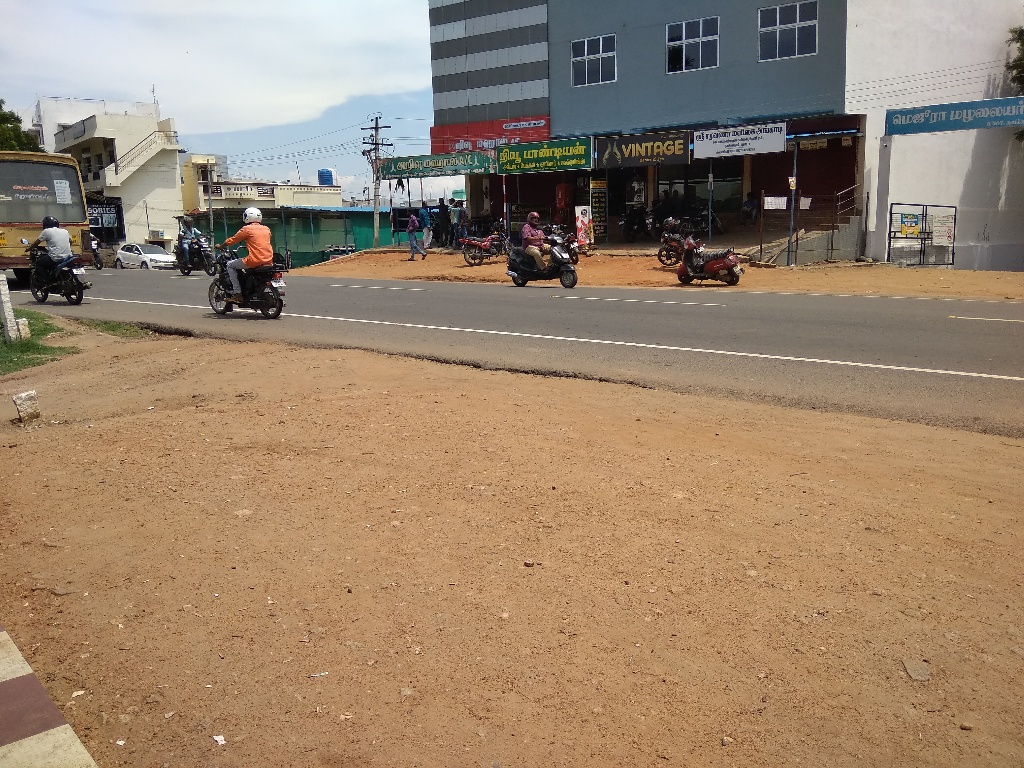biker: (495, 178, 603, 300), (207, 191, 296, 322), (16, 196, 98, 309), (164, 196, 218, 278)
helmet: (239, 200, 267, 229), (519, 205, 545, 234), (38, 212, 64, 237), (177, 212, 198, 235)
